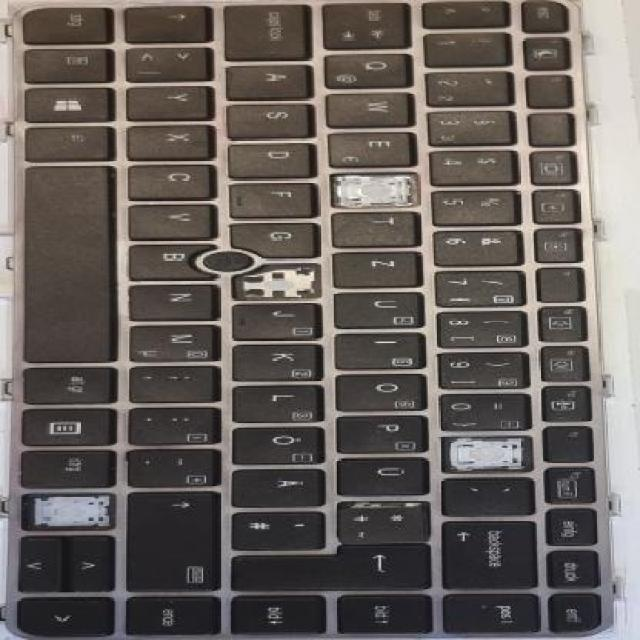Keyboard problems: (442, 437, 531, 468), (334, 174, 418, 206), (31, 495, 109, 528), (235, 266, 318, 297)
